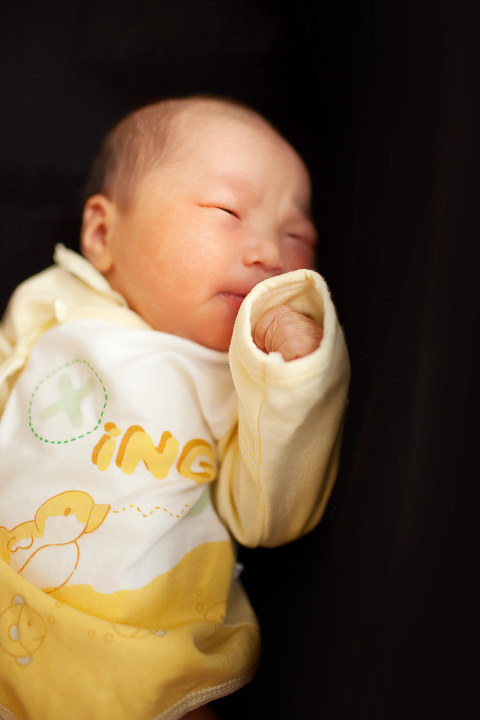face: (130, 103, 318, 340)
